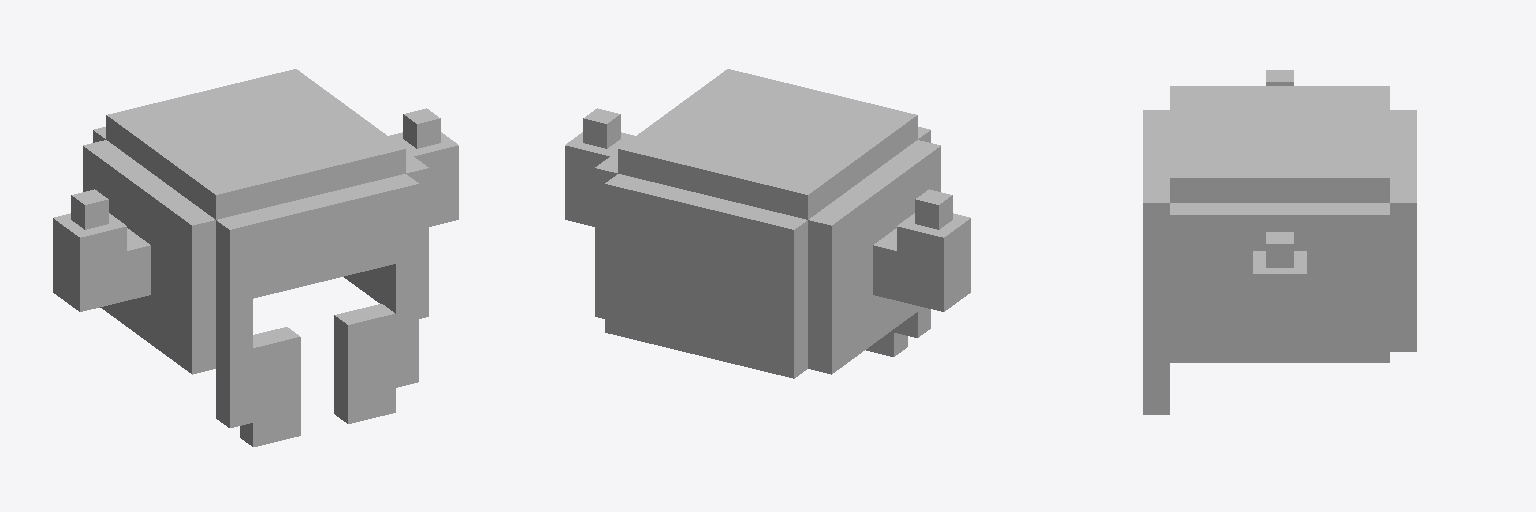
The model's file is knight_hat.obj.
3 renders of one model, left to right at view 1: azimuth 30°, elevation 25°; view 2: azimuth 150°, elevation 25°; view 3: azimuth 270°, elevation 25°, orthographic.
Parts seen in each view (by area): view 1: Shape6, Shape5, Shape4, Shape9, Shape8, Shape10, Shape1, Shape7, Shape2, Shape11, Shape13, Shape14 (+2 smaller); view 2: Shape3, Shape6, Shape4, Shape10, Shape11, Shape2, Shape13, Shape14, Shape12, Shape15, Shape1, Shape8; view 3: Shape2, Shape6, Shape3, Shape5, Shape7, Shape13, Shape14, Shape15.
Part boxes in pixels (x1,y1,x2,y2): Shape6: (106,69,405,219); Shape5: (216,174,418,303); Shape4: (83,140,215,374); Shape9: (334,304,395,423); Shape8: (240,327,300,446); Shape10: (53,228,150,311); Shape1: (216,295,252,427); Shape7: (382,258,418,387); Shape2: (344,151,428,318); Shape11: (53,213,126,262); Shape13: (429,170,458,226); Shape14: (389,132,458,176); Shape3: (605,174,807,378); Shape6: (618,69,917,219); Shape4: (808,140,940,374); Shape10: (873,228,970,311); Shape11: (897,213,970,262); Shape2: (595,151,617,318); Shape13: (565,170,594,226); Shape14: (565,132,634,176); Shape12: (915,189,952,229); Shape15: (583,108,620,148); Shape1: (894,308,930,337); Shape8: (866,329,907,356); Shape2: (1170,203,1389,362); Shape6: (1170,86,1389,202); Shape3: (1390,110,1416,351); Shape5: (1143,110,1169,276); Shape7: (1143,277,1169,401); Shape13: (1253,299,1306,348); Shape14: (1253,251,1306,298); Shape15: (1266,232,1293,267).
Bounding box in the file's own units: 1 × 0.625 × 0.625.